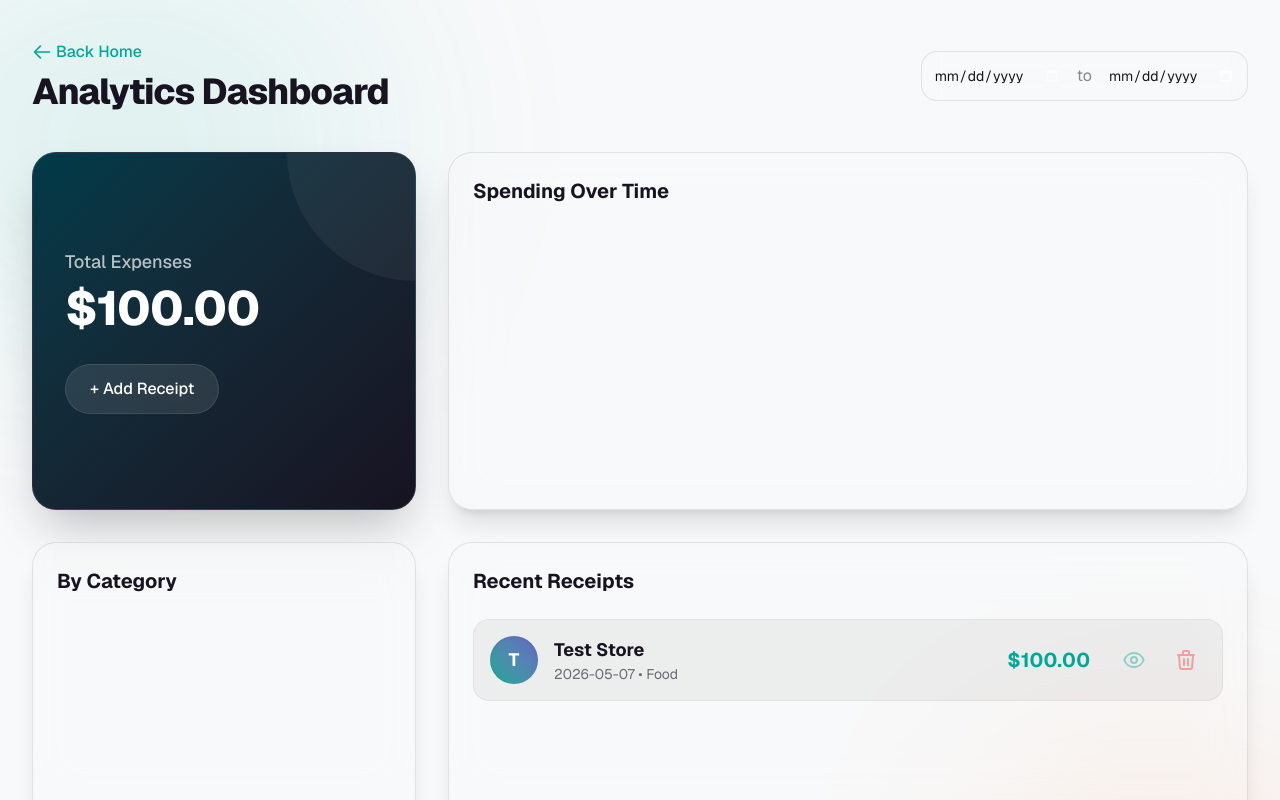
Test: Dashboard Deletion Workflow › shows the deletion modal when clicking delete button
The image size is (1280, 800).
Expected: the text "Test Store" is shown, x1=554 y1=638 x2=644 y2=661
Note: Find and click delete button (it's hidden by opacity but fireEvent works)
Click the button titled "Delete Receipt".
click(1186, 660)  # box x1=1166 y1=640 x2=1206 y2=680
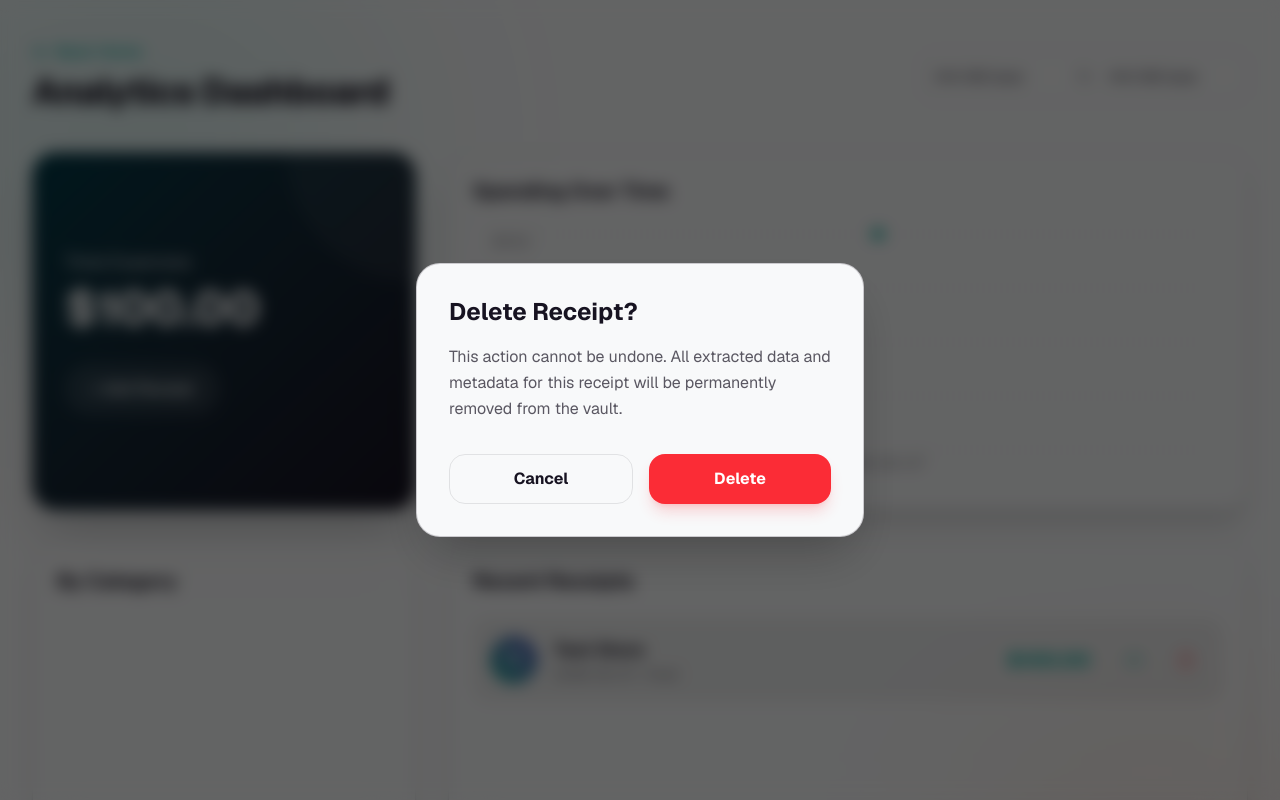
Expected: the heading "Delete Receipt?" is shown, x1=449 y1=296 x2=638 y2=327
Expected: the text "This action cannot be undone" is shown, x1=449 y1=346 x2=831 y2=419
